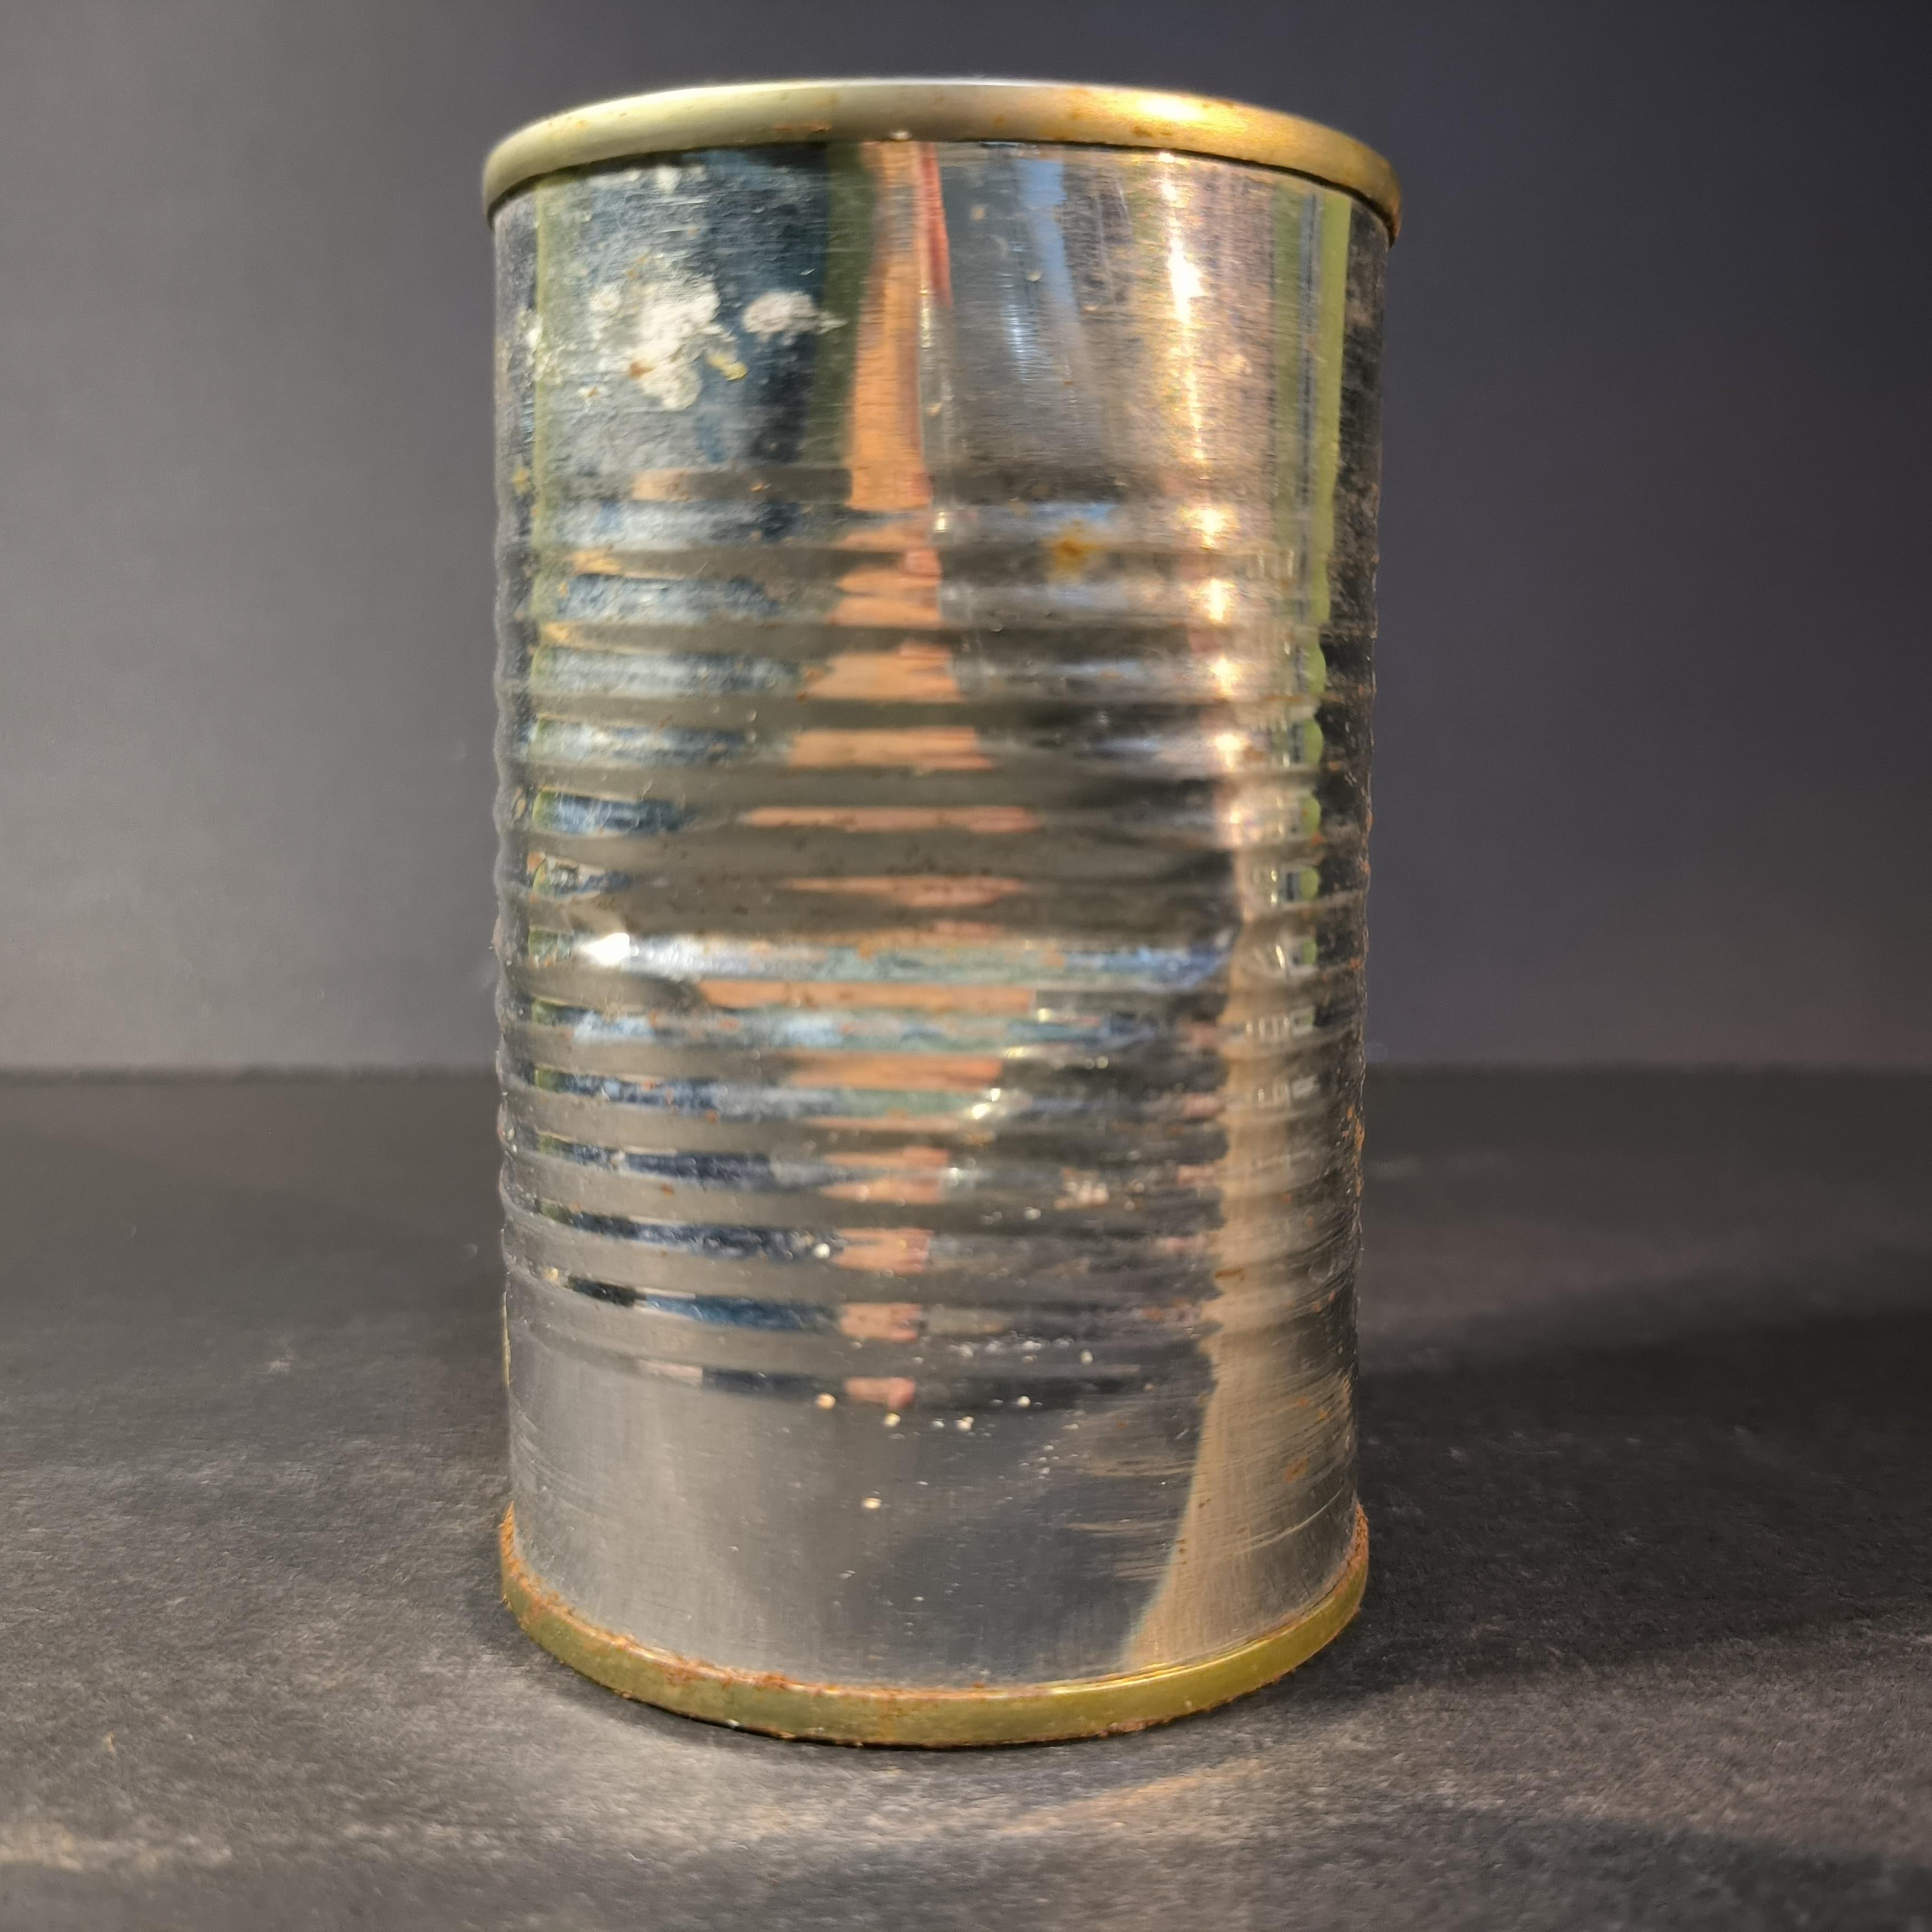Minor Defect: (469, 58, 1412, 1764)
